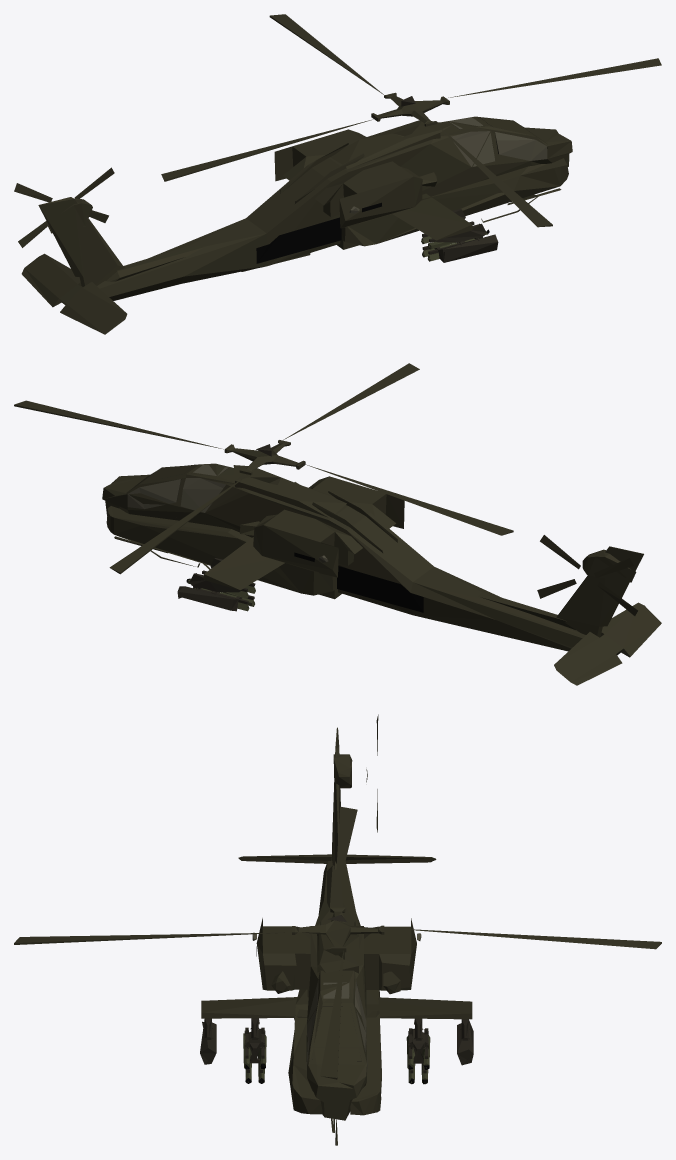
The model's file is apache.lod1.glb.
3 views of the same model, one above another, from view 1: azimuth 30°, elevation 25°; view 2: azimuth 150°, elevation 25°; view 3: azimuth 270°, elevation 25° (orthographic). The views are drawn at different scales.
Parts seen in each view (by area): view 1: Object_2; view 2: Object_2; view 3: Object_2.
Boxes of the visible parts, left/top/right/bottom form: Object_2: left=14, top=14, right=661, bottom=334; Object_2: left=14, top=363, right=661, bottom=685; Object_2: left=14, top=714, right=661, bottom=1145.
Bounding box in the file's own units: 17.7 × 3.74 × 13.87.
